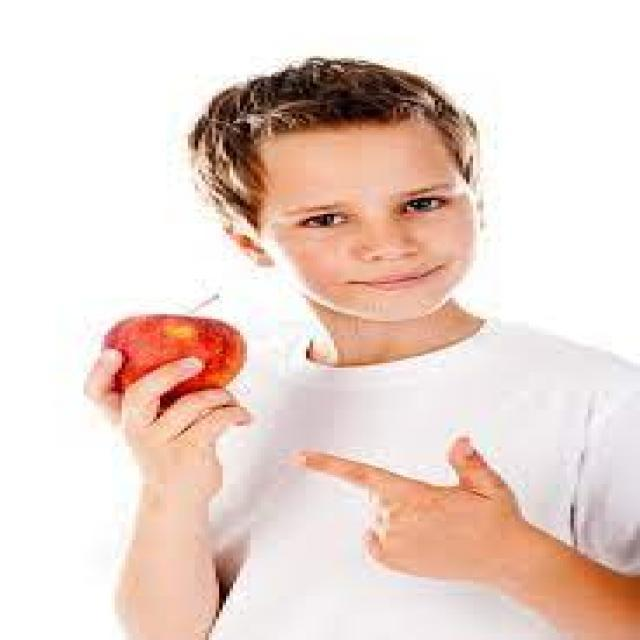Fresh Apple: (98, 310, 237, 392)
